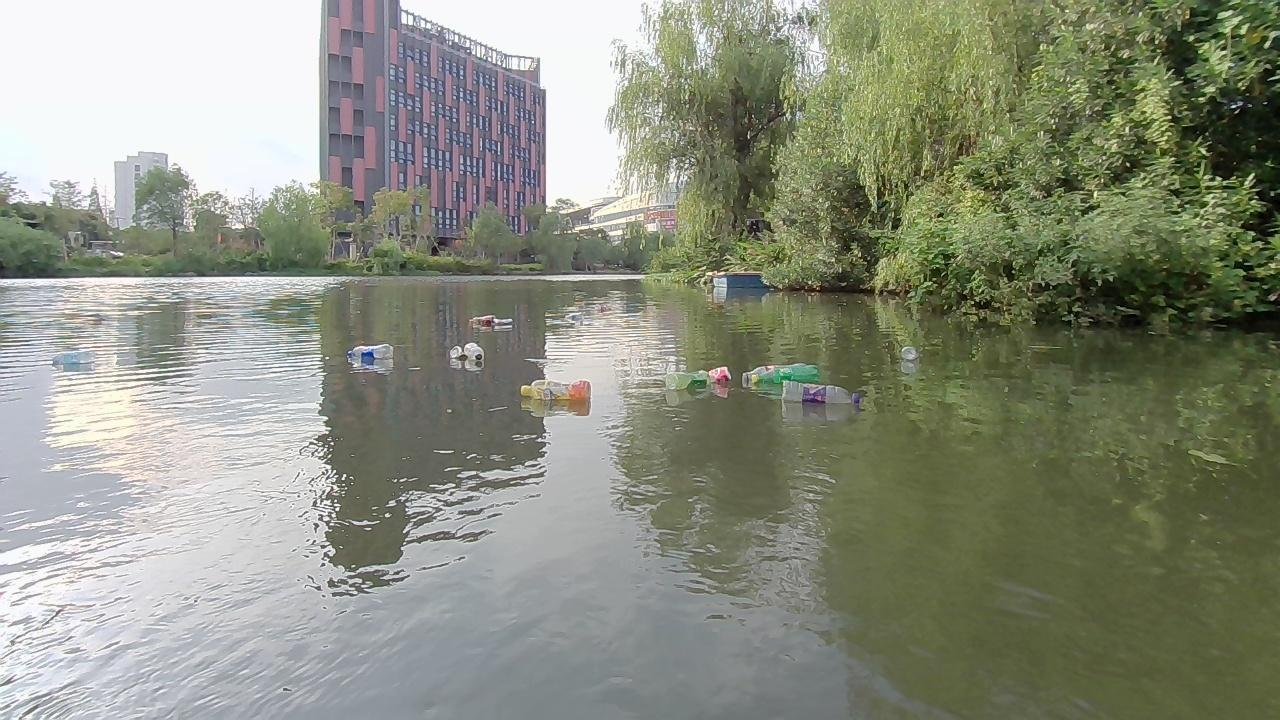bottle: (780, 377, 866, 415), (658, 365, 717, 397), (521, 377, 588, 405), (745, 363, 826, 386), (343, 339, 391, 362), (701, 362, 731, 385), (461, 342, 486, 365), (51, 352, 94, 364), (896, 344, 921, 364), (467, 313, 494, 327), (564, 308, 581, 325), (492, 317, 515, 328), (447, 347, 462, 361), (596, 301, 611, 315)
